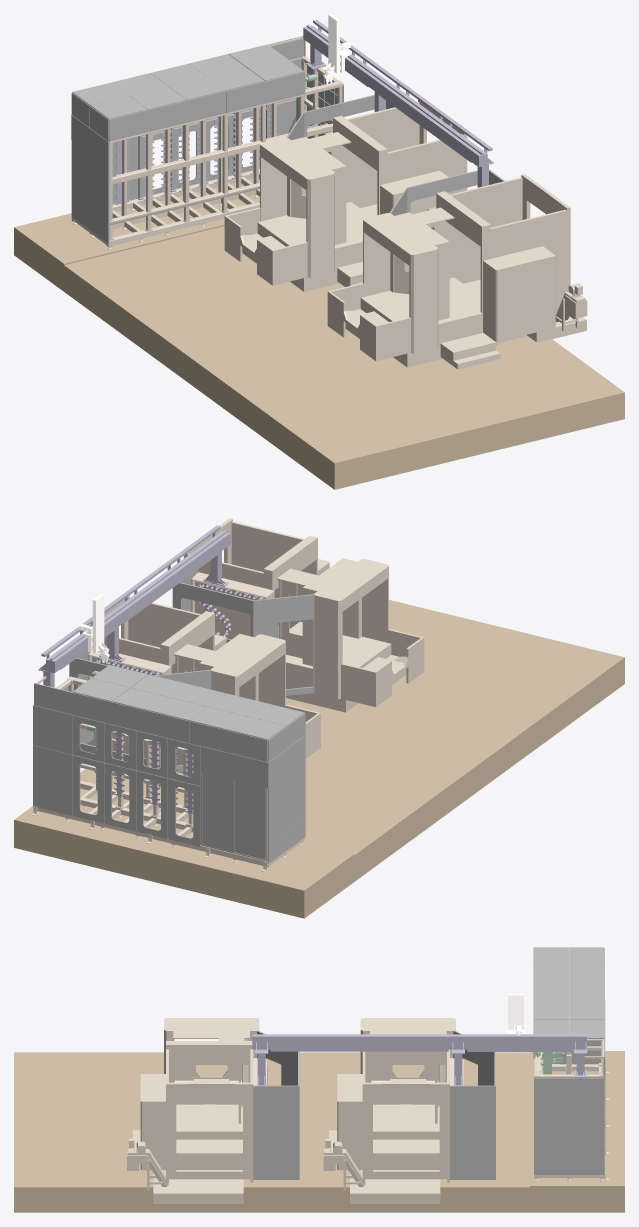
File: wavehouse_finial.glb
The picture shows the model from 3 angles, top to bottom: view 1: azimuth 30°, elevation 25°; view 2: azimuth 150°, elevation 25°; view 3: azimuth 270°, elevation 25°; orthographic projection. The views are drawn at different scales.
Visible parts, largest first — view 1: plant, cnc, alpha_ob, down, main, wavehouse_Bracket, r1; view 2: plant, alpha_ob, cnc, main, down, wavehouse_Bracket, r1, cnc_1_wavehouse; view 3: plant, cnc, alpha_ob, main, down, r1.
Boxes of the visible parts, box(x1,y1,x2,y2) form: plant: box(14, 178, 624, 489); cnc: box(224, 100, 587, 369); alpha_ob: box(71, 36, 504, 243); down: box(69, 37, 343, 249); main: box(303, 19, 493, 187); wavehouse_Bracket: box(116, 66, 325, 204); r1: box(323, 14, 351, 78); plant: box(14, 600, 624, 918); alpha_ob: box(33, 569, 314, 863); cnc: box(83, 518, 424, 773); main: box(38, 525, 230, 687); down: box(31, 676, 304, 871); wavehouse_Bracket: box(96, 728, 193, 813); r1: box(78, 594, 109, 657); cnc_1_wavehouse: box(94, 583, 262, 675); plant: box(14, 1051, 624, 1212); cnc: box(127, 1018, 463, 1203); alpha_ob: box(253, 947, 605, 1179); main: box(252, 1034, 587, 1085); down: box(534, 949, 609, 1181); r1: box(506, 994, 524, 1035).
Size of the model in its own units: 517 by 327 by 882.
